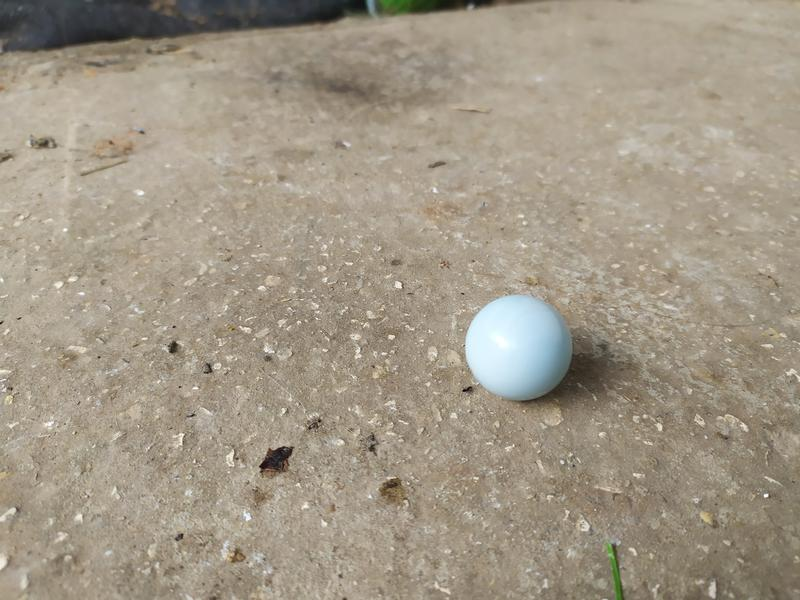Warning: (462, 292, 578, 405)
